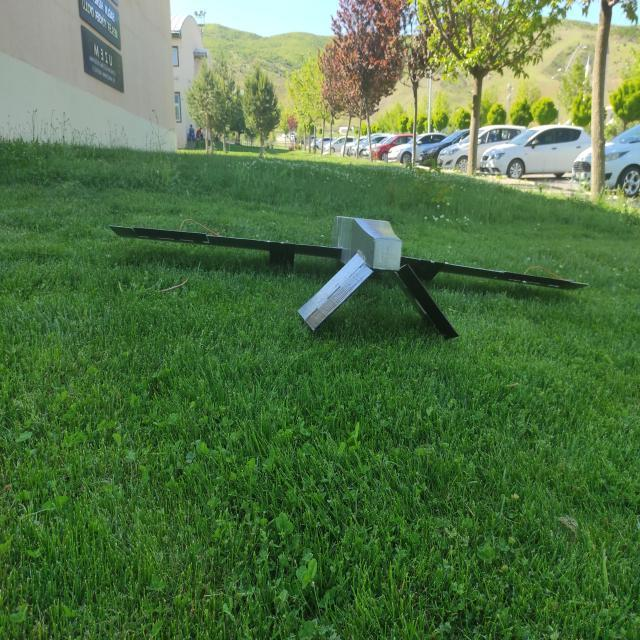UAV: (116, 228, 588, 414)
